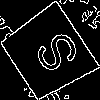S: (23, 27, 82, 82)
